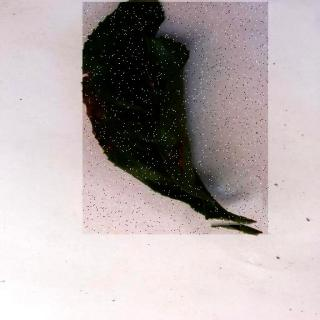Algal Leaf: (84, 3, 270, 235)
